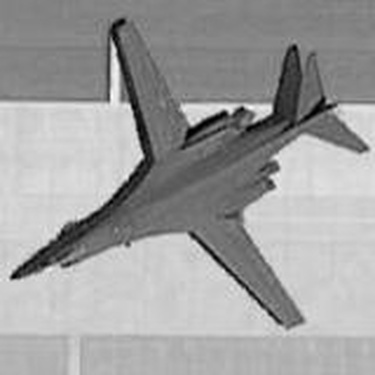airplane: (11, 12, 373, 338)
